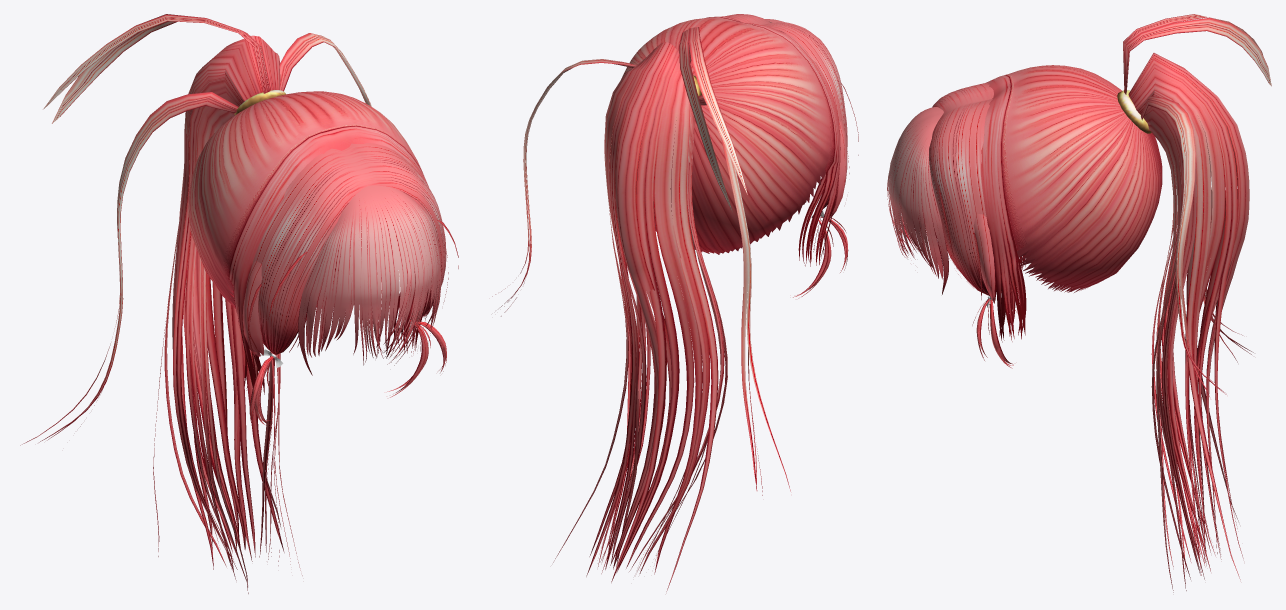
Rendered from lufeng.FBX.
The picture shows the model from 3 angles, left to right: view 1: azimuth 30°, elevation 25°; view 2: azimuth 150°, elevation 25°; view 3: azimuth 270°, elevation 25°; orthographic projection. The views are drawn at different scales.
Parts seen in each view (by area): view 1: objMesh_kami_back_05_Layer1, objMesh_kami_side_05_Layer1, objMesh_kami_front_05_Layer1; view 2: objMesh_kami_back_05_Layer1, objMesh_kami_side_05_Layer1; view 3: objMesh_kami_back_05_Layer1, objMesh_kami_side_05_Layer1, objMesh_kami_front_05_Layer1.
Boxes of the visible parts, x1,y1,x2,y2 form: objMesh_kami_back_05_Layer1: (20,14,428,593); objMesh_kami_side_05_Layer1: (242,143,458,426); objMesh_kami_front_05_Layer1: (298,185,441,375); objMesh_kami_back_05_Layer1: (492,16,840,591); objMesh_kami_side_05_Layer1: (725,14,858,298); objMesh_kami_back_05_Layer1: (981,14,1271,592); objMesh_kami_side_05_Layer1: (929,83,1017,368); objMesh_kami_front_05_Layer1: (887,107,948,294).
Size of the model in its own units: 3.02 by 4.93 by 3.23.
3 materials, 3 textured.
